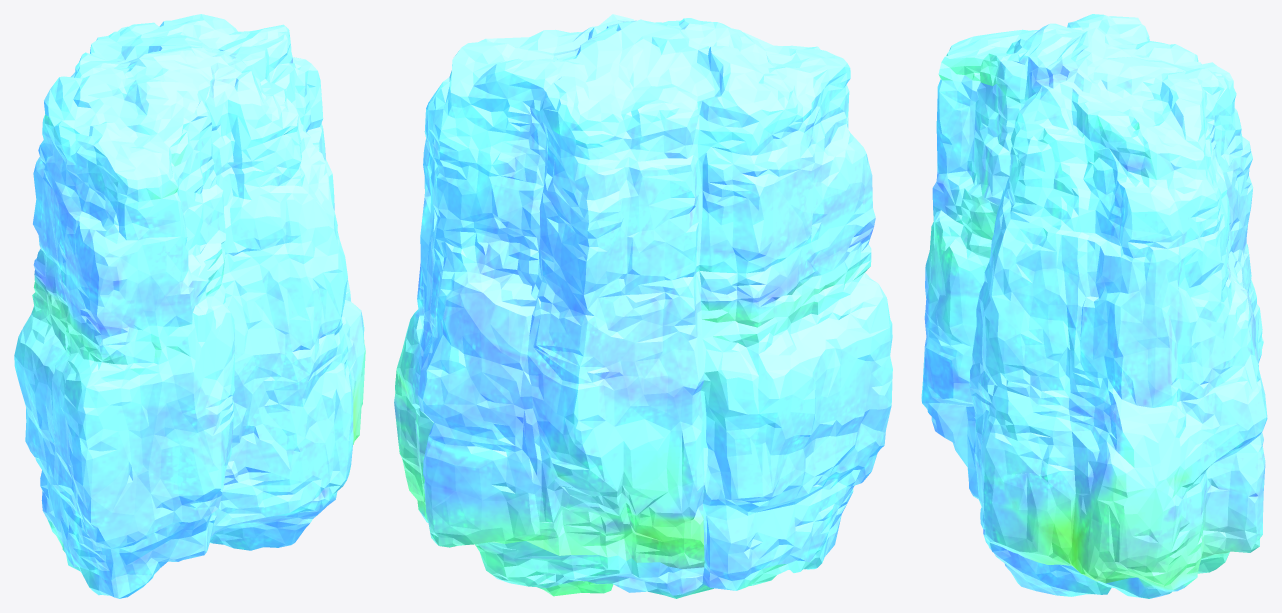
The model's file is RockTallPerPoly.fbx.
The picture shows the model from 3 angles, left to right: view 1: azimuth 30°, elevation 25°; view 2: azimuth 150°, elevation 25°; view 3: azimuth 270°, elevation 25°; orthographic projection. The views are drawn at different scales.
Parts seen in each view (by area): view 1: HL_Desert_Rock_Tall_PerPoly_A.mo; view 2: HL_Desert_Rock_Tall_PerPoly_A.mo; view 3: HL_Desert_Rock_Tall_PerPoly_A.mo.
Part boxes in pixels (x1,y1,x2,y2): HL_Desert_Rock_Tall_PerPoly_A.mo: [14, 14, 365, 598]; HL_Desert_Rock_Tall_PerPoly_A.mo: [394, 14, 892, 598]; HL_Desert_Rock_Tall_PerPoly_A.mo: [921, 14, 1267, 598].
Bounding box in the file's own units: 5551 × 7310 × 4480.
